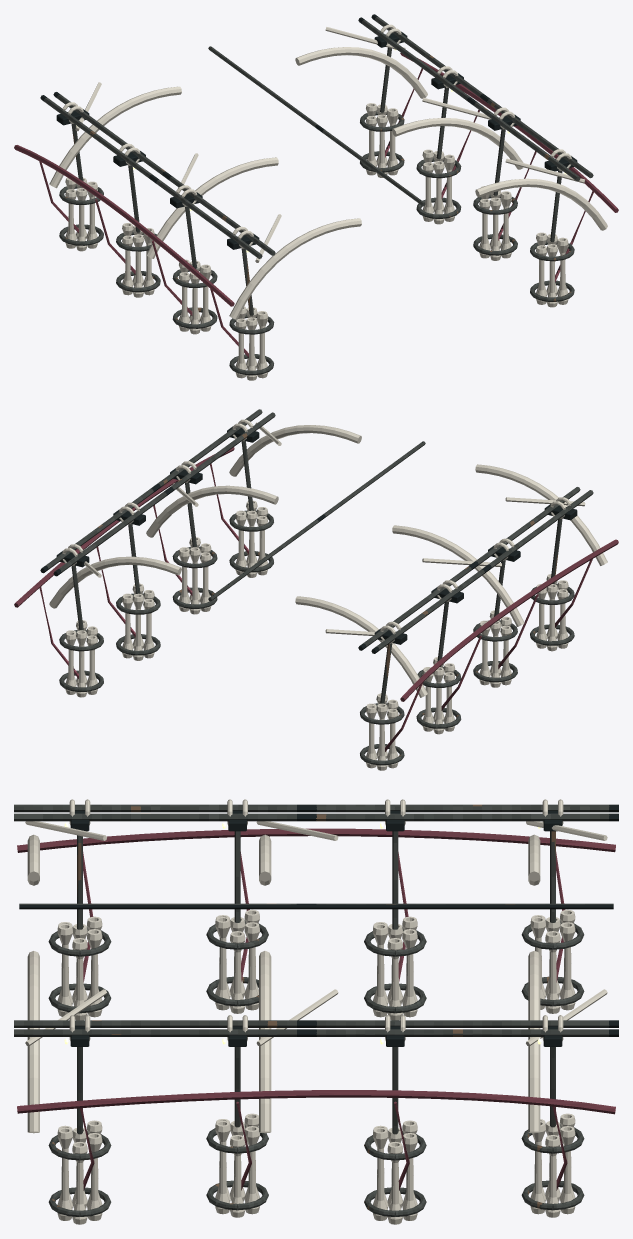
The model's file is ossuary_sorting_vault.glb.
3 views of the same model, one above another, from view 1: azimuth 30°, elevation 25°; view 2: azimuth 150°, elevation 25°; view 3: azimuth 270°, elevation 25° (orthographic). The views are drawn at different scales.
Visible parts, largest first — view 1: ossuary_sorting_vault_warm, ossuary_sorting_vault_petrol, ossuary_sorting_vault_bruised; view 2: ossuary_sorting_vault_warm, ossuary_sorting_vault_petrol, ossuary_sorting_vault_bruised; view 3: ossuary_sorting_vault_petrol, ossuary_sorting_vault_warm, ossuary_sorting_vault_bruised.
Part boxes in pixels (x1,y1,x2,y2): ossuary_sorting_vault_warm: (49,24,607,380); ossuary_sorting_vault_petrol: (40,14,593,375); ossuary_sorting_vault_bruised: (14,53,618,357); ossuary_sorting_vault_warm: (49,419,607,770); ossuary_sorting_vault_petrol: (40,409,593,765); ossuary_sorting_vault_bruised: (14,447,618,751); ossuary_sorting_vault_petrol: (14,804,618,1216); ossuary_sorting_vault_warm: (25,799,607,1224); ossuary_sorting_vault_bruised: (17,828,615,1190).
Size of the model in its own units: 10.77 by 3.94 by 10.36.
4 materials, 2 textured.
